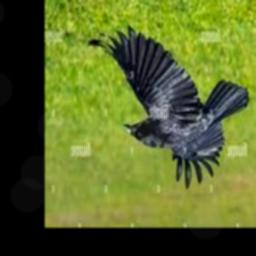Crow: (87, 25, 249, 188)
